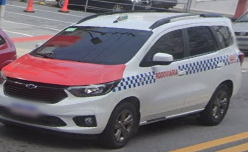car: (1, 12, 241, 148)
